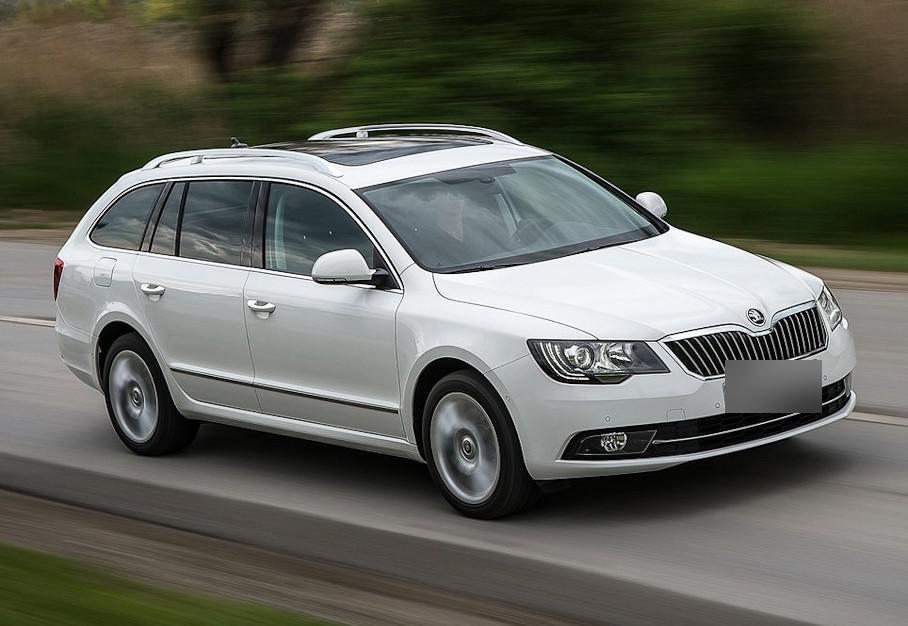Wagon: (53, 122, 856, 519)
